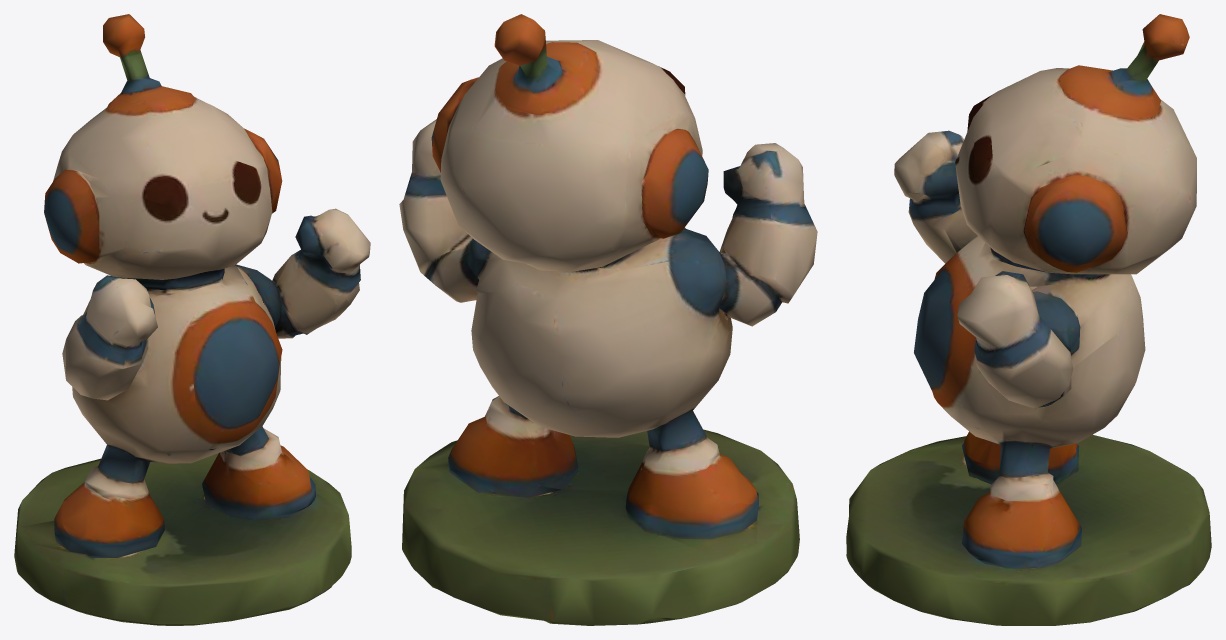
The model's file is marker-robot.lod.glb.
3 views of the same model, side by side, from view 1: azimuth 30°, elevation 25°; view 2: azimuth 150°, elevation 25°; view 3: azimuth 270°, elevation 25° (orthographic). The views are drawn at different scales.
Parts seen in each view (by area): view 1: textured_mesh.obj; view 2: textured_mesh.obj; view 3: textured_mesh.obj.
Part boxes in pixels (bbox=[...]): textured_mesh.obj: bbox=[14, 14, 370, 625]; textured_mesh.obj: bbox=[399, 14, 817, 625]; textured_mesh.obj: bbox=[846, 14, 1211, 625].
Bounding box in the file's own units: 0.6684 × 0.9986 × 0.6156.
Materials: 1 (1 with a texture image).
